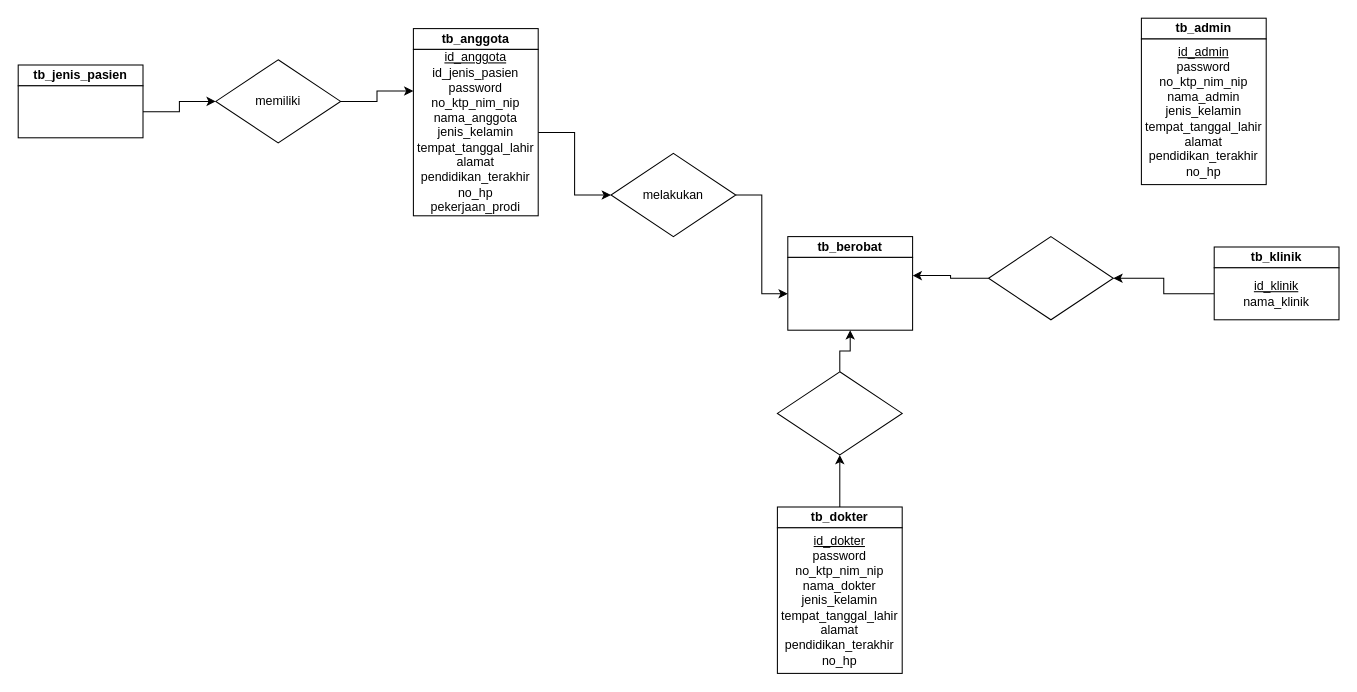
Image size: 1357x692. Some labels were removed from this diagram. The shapes that lost their labels are listed below. From the top down, each one's centre as x and y in pixels, then its label:
At [80,111]: "id_jenis_pasien jenis_pasien".
At [850,293]: "id_berobat tanggal_berobat id_anggota id_klinik id_dokter".
At [1050,278]: "menyediakan".
At [839,413]: "melayani".
